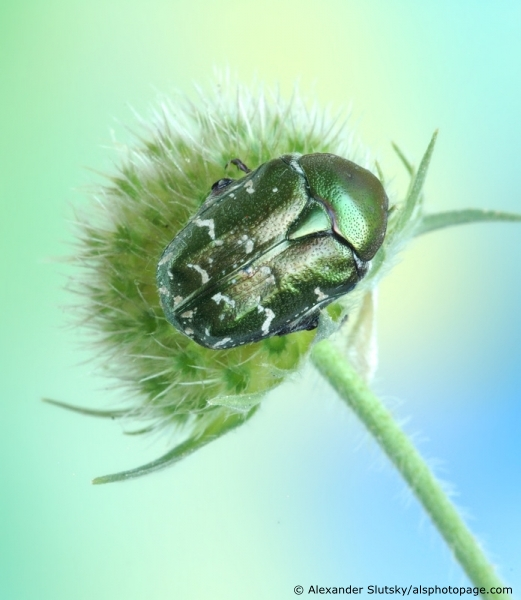Protaetia_metallica: (137, 139, 400, 368)
